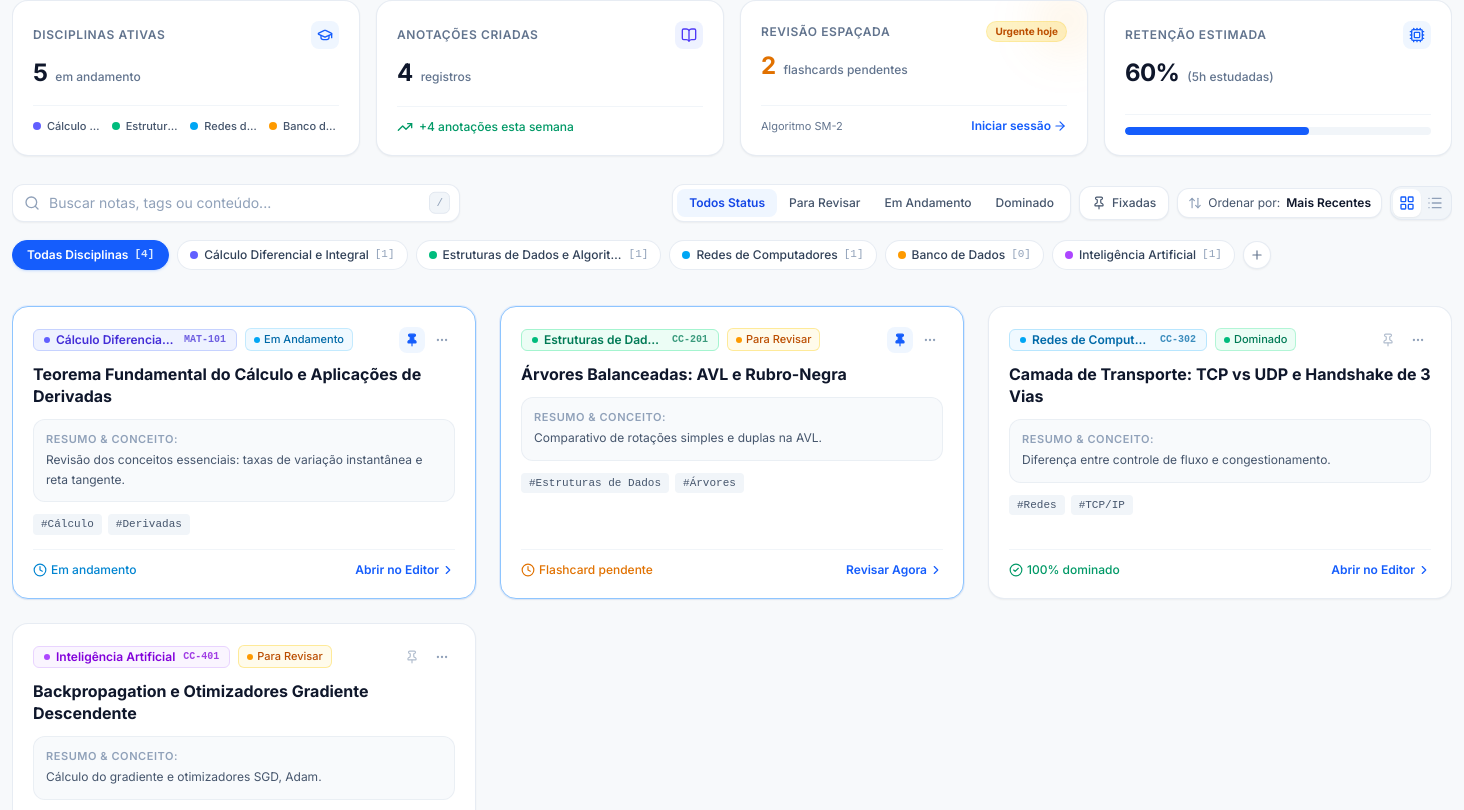
Test: AcademicView › filtra anotações por status
Click the button with aria-label "Filtrar por status: Para Revisar": (825, 202) x1=777 y1=188 x2=872 y2=216
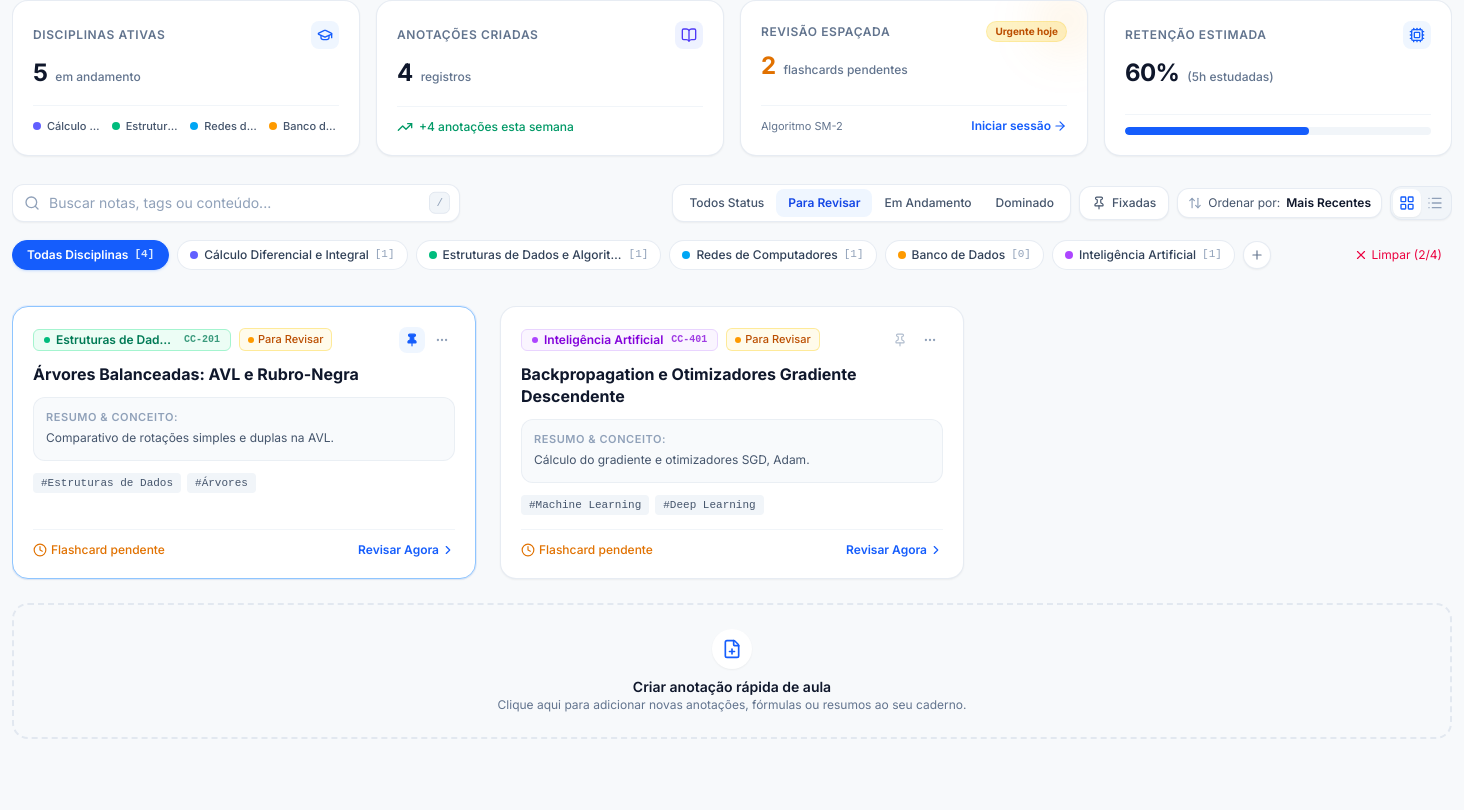
Expected: the heading "Árvores Balanceadas: AVL e Rubro-Negra" is shown, x1=33 y1=364 x2=359 y2=384
Result: the heading "Camada de Transporte: TCP vs UDP e Handshake de 3 Vias" is gone
